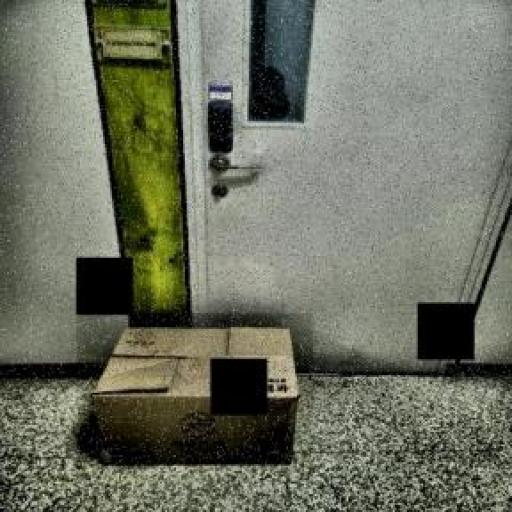box: (77, 314, 314, 479)
